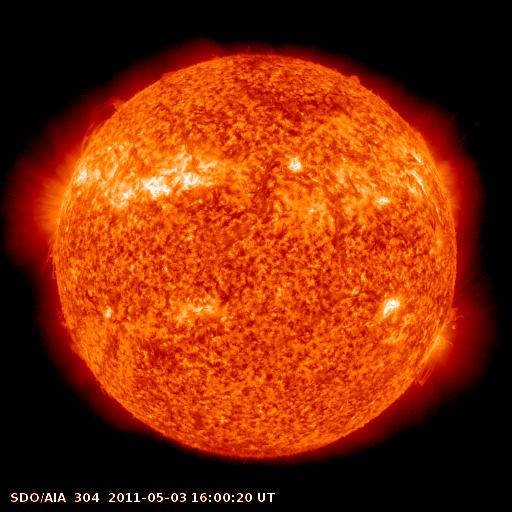prominence: (77, 91, 134, 153), (338, 63, 369, 93)
